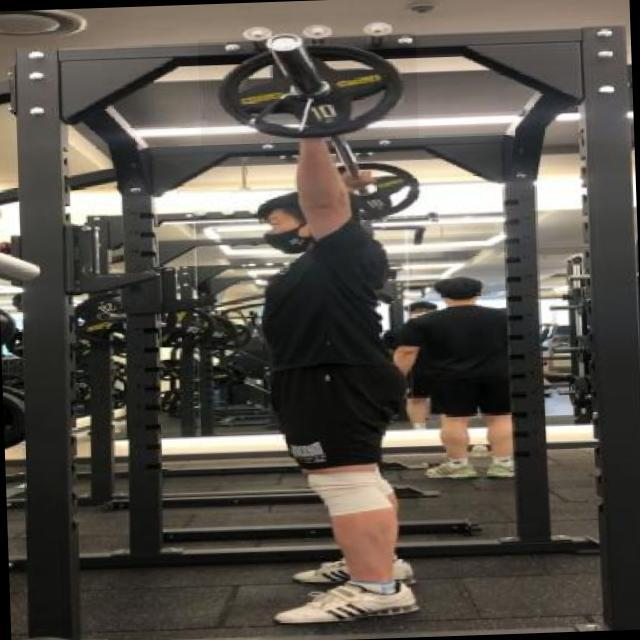barbell: (198, 33, 420, 148)
